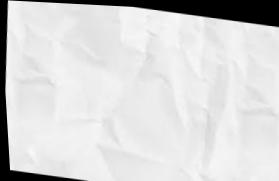paper: (4, 1, 278, 180)
